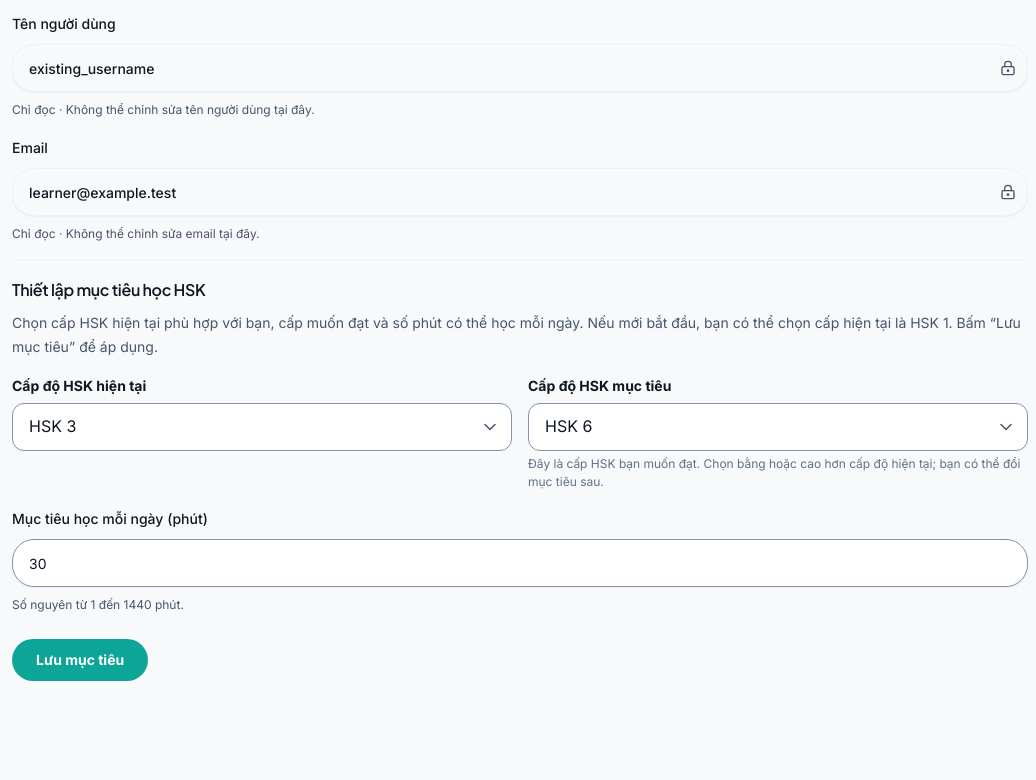
Test case: preserves save feedback through refreshed profile data and syncs a later HSK promotion
Later steps or results of the test are not shown.
Select "HSK 4" in the dropdown labelled "Cấp độ HSK hiện tại" at (262, 427), box [12,403,512,451]
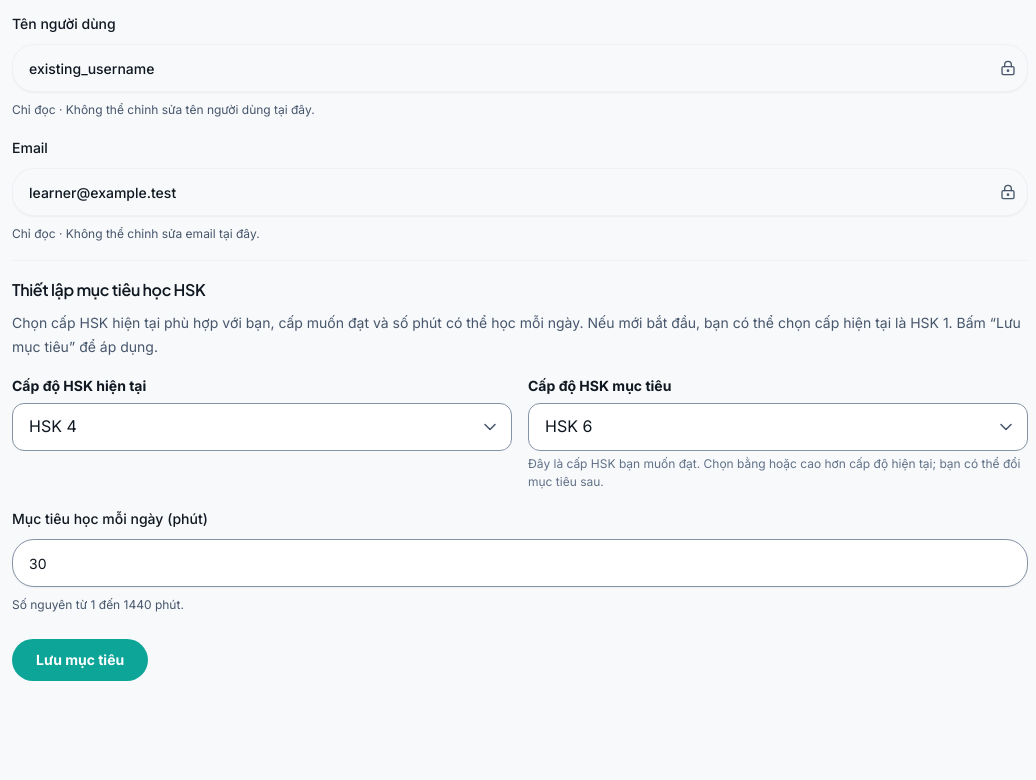
Select "HSK 5" in the dropdown labelled "Cấp độ HSK mục tiêu" at (778, 427), box [528,403,1028,451]
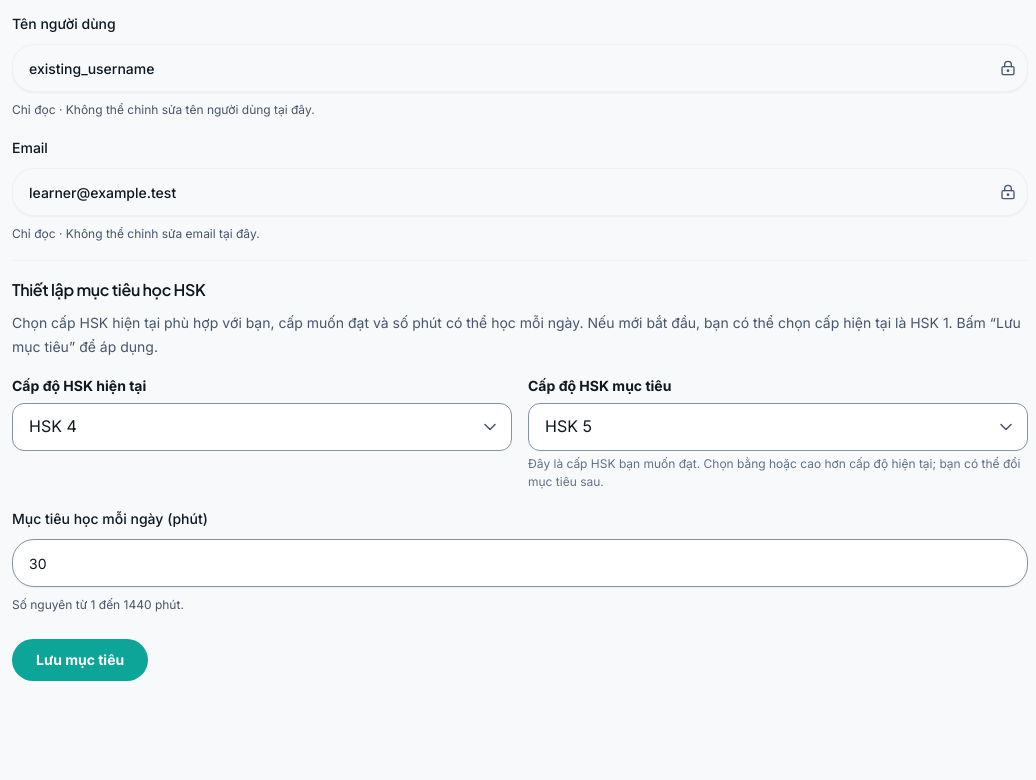
Replace the text in the number field labelled "Mục tiêu học mỗi ngày (phút)" with "45" at (520, 563), box [12,539,1028,587]
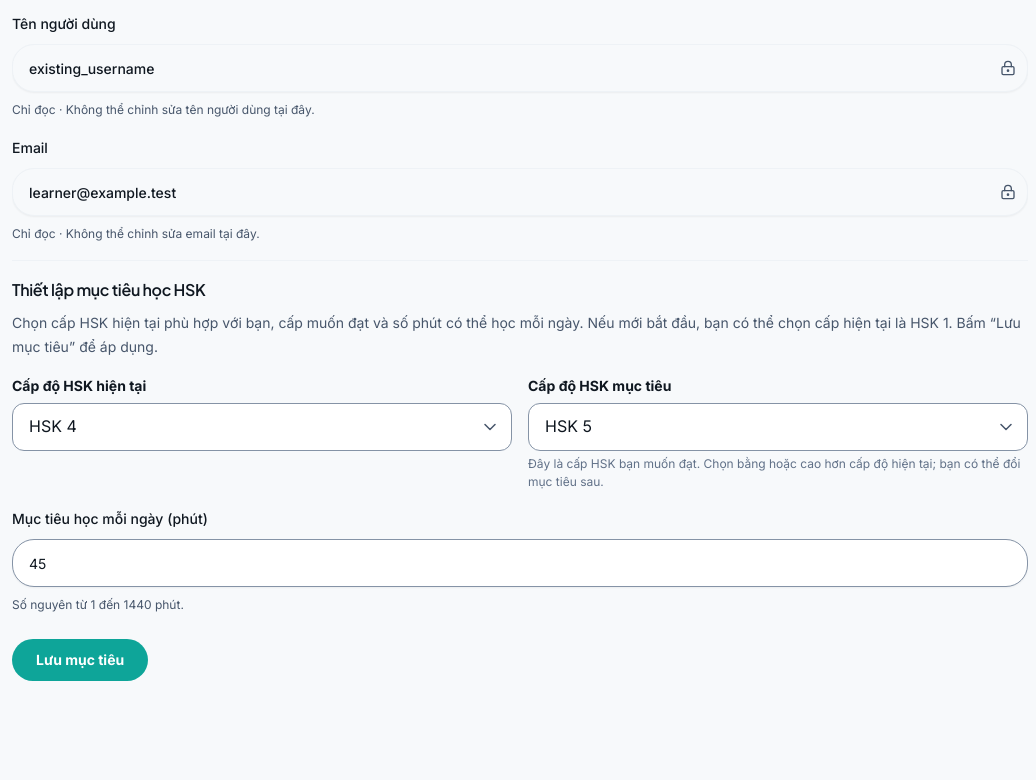
Submit the form named "Lưu mục tiêu"
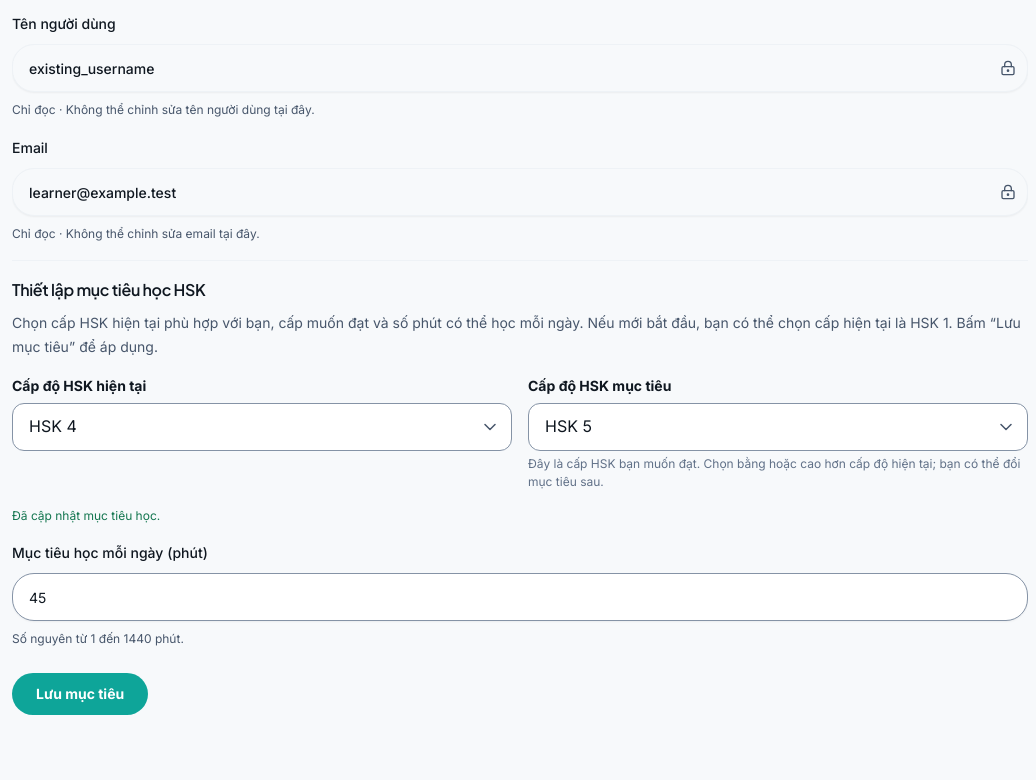
Now the message "Đã cập nhật mục tiêu học." is shown, box [12,508,160,523]
